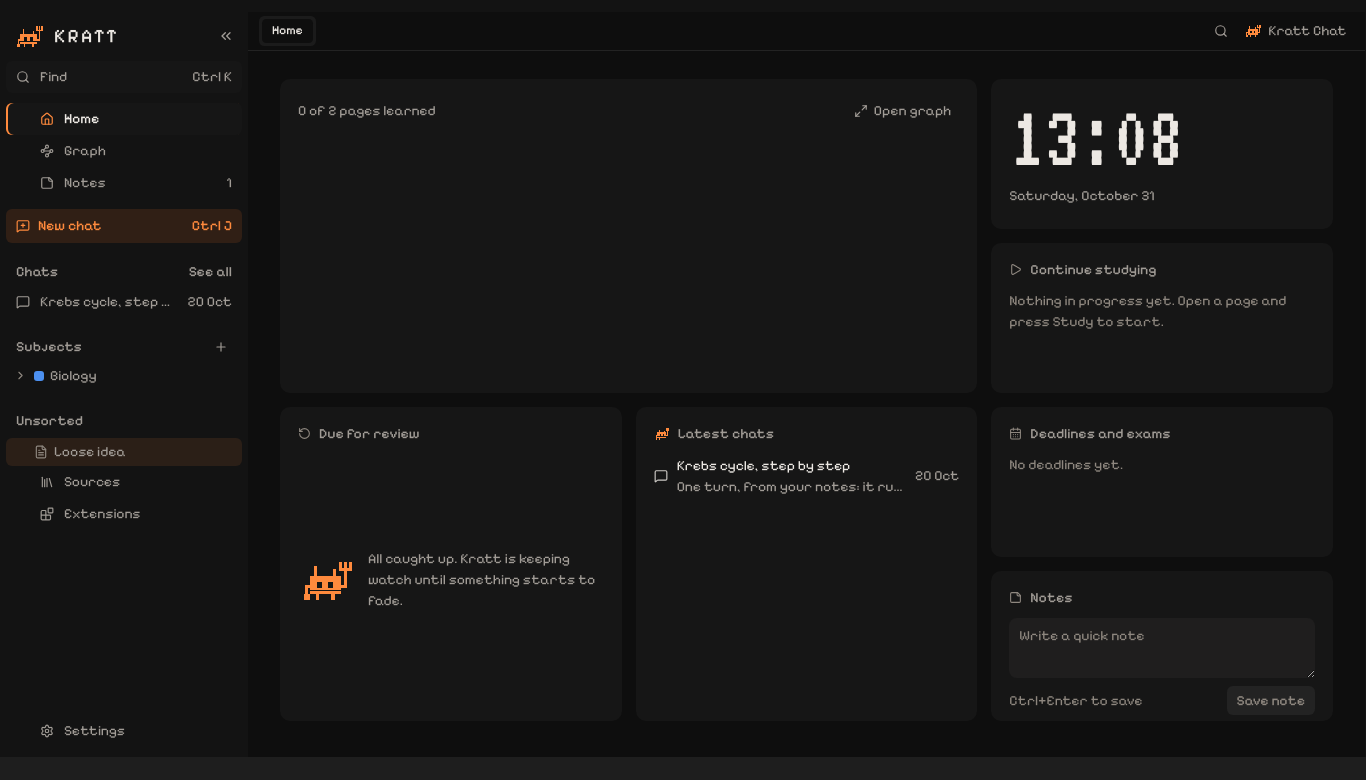
Test: sidebar copy, paste and delete keys › pastes a loose page into the selected folder
This screenshot has width=1366, height=780.
Press c in the list item "Loose idea", box [6, 438, 242, 466]
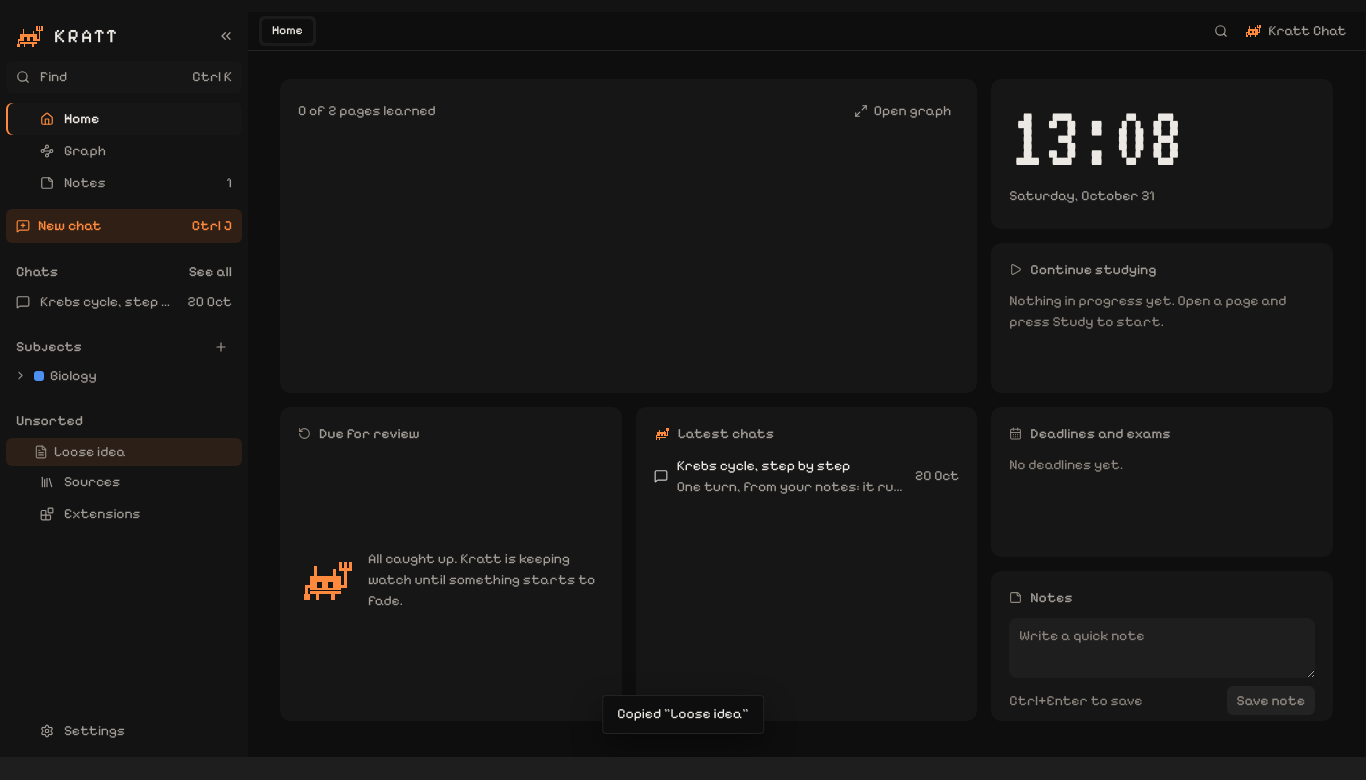
Click the button named "Expand" at (20, 376), box [12, 366, 28, 384]
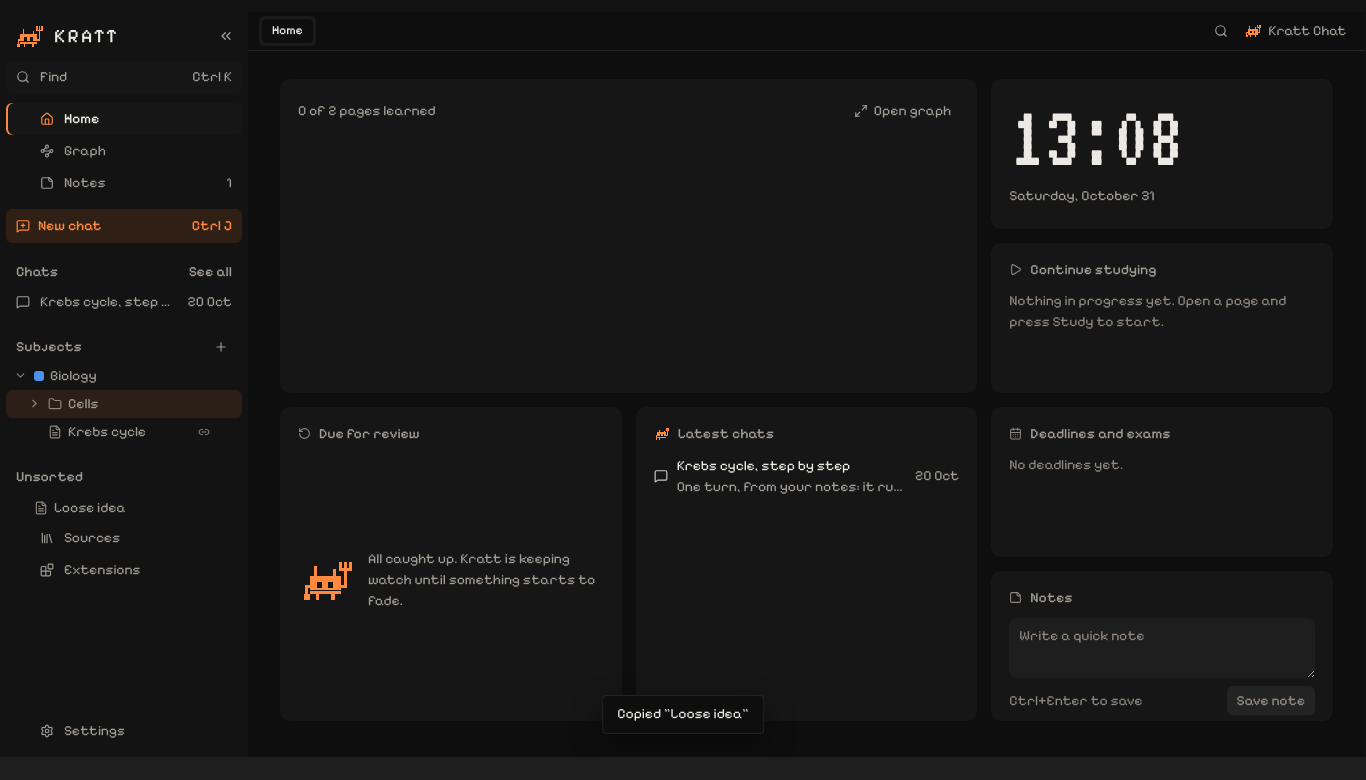
Press v in the list item "Cells", box [6, 390, 242, 418]
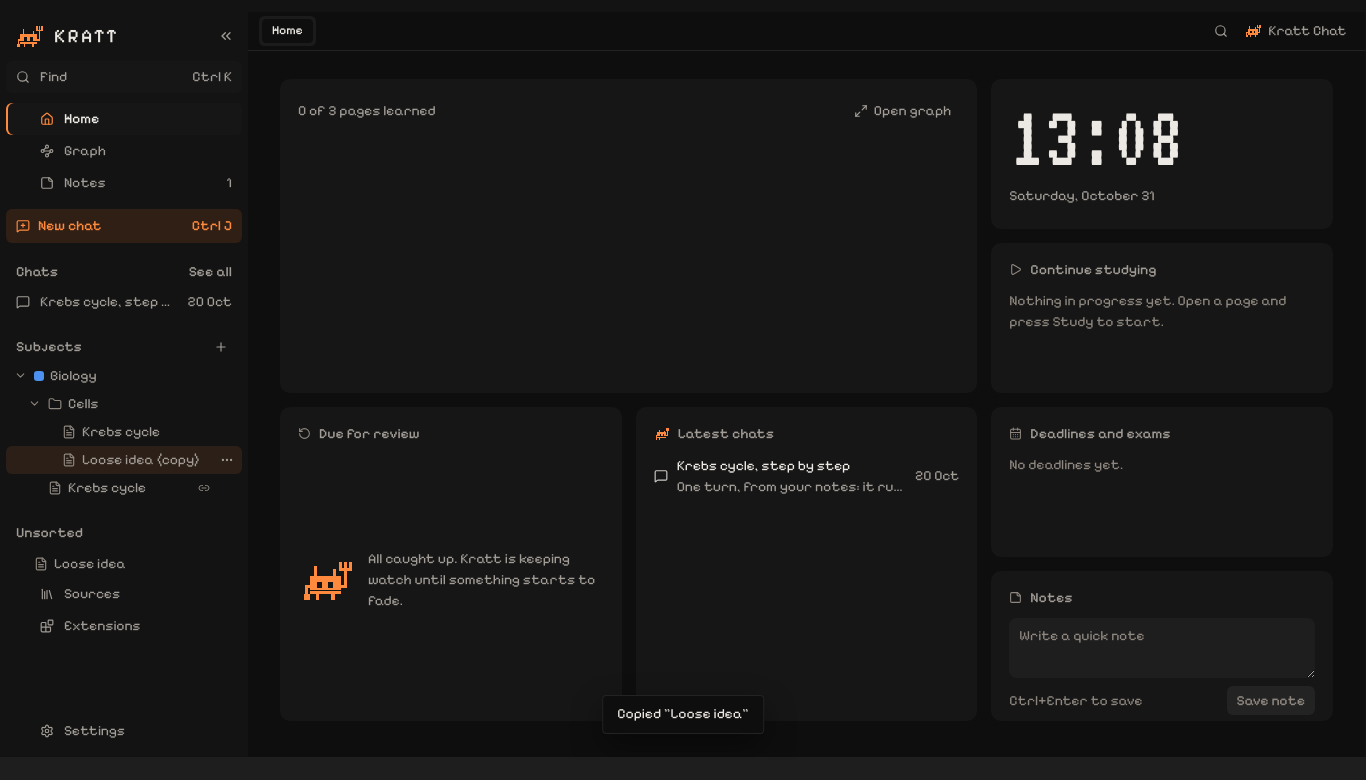
Check: the text "Loose idea" is shown, box [54, 555, 126, 572]
Check: the text "Loose idea (copy)" is shown, box [82, 449, 210, 470]
